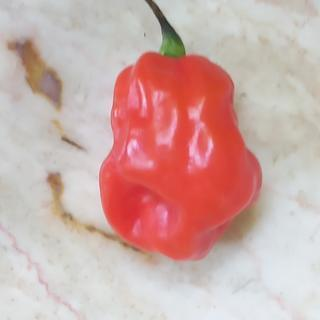Grade-A: (93, 44, 265, 263)
